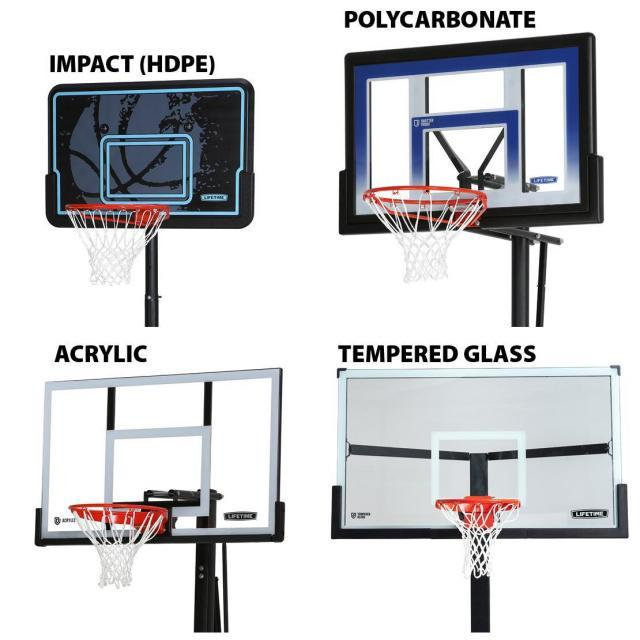hoop: (363, 186, 488, 282), (68, 503, 168, 589), (66, 204, 170, 286), (435, 498, 522, 579)
